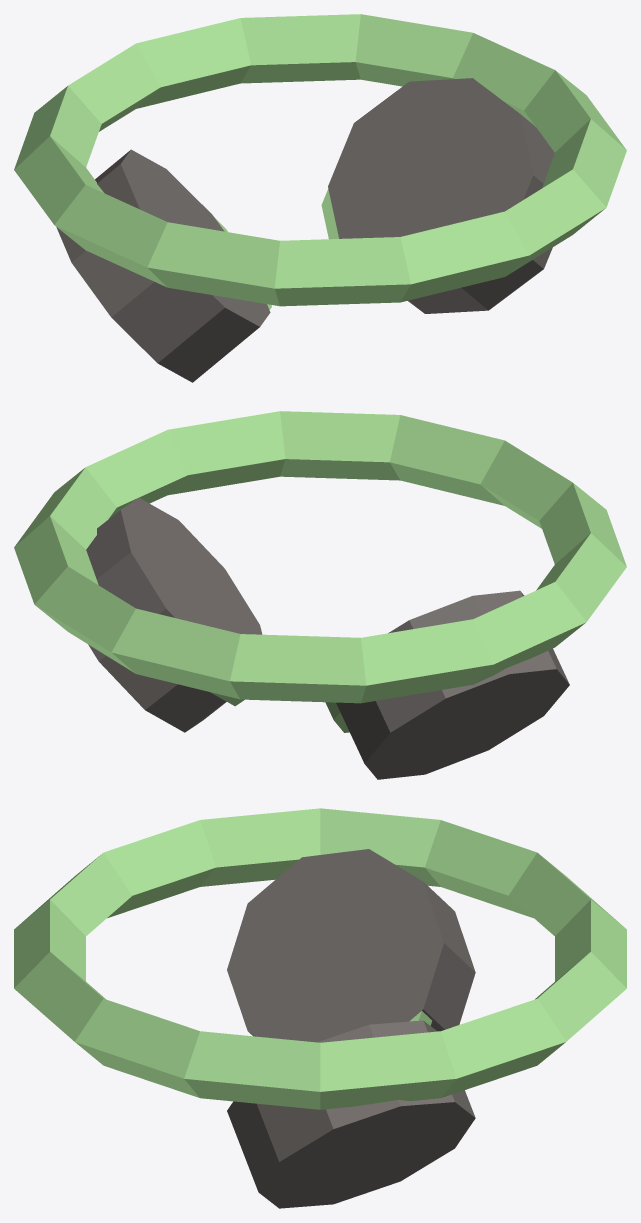
Rendered from sig_duck.glb.
3 views of the same model, one above another, from view 1: azimuth 30°, elevation 25°; view 2: azimuth 150°, elevation 25°; view 3: azimuth 270°, elevation 25° (orthographic). The views are drawn at different scales.
Parts seen in each view (by area): view 1: Torus, Cylinder.002, Cylinder; view 2: Torus, Cylinder, Cylinder.002; view 3: Torus, Cylinder, Cylinder.002.
Part boxes in pixels (bbox=[...]): Torus: bbox=[14, 14, 626, 306]; Cylinder.002: bbox=[328, 78, 554, 313]; Cylinder: bbox=[56, 149, 270, 382]; Torus: bbox=[14, 411, 626, 703]; Cylinder: bbox=[336, 590, 569, 779]; Cylinder.002: bbox=[86, 498, 262, 732]; Torus: bbox=[14, 808, 626, 1109]; Cylinder: bbox=[227, 849, 475, 1042]; Cylinder.002: bbox=[227, 1020, 475, 1208].
Bounding box in the file's own units: 0.408 × 0.16 × 0.3978.
